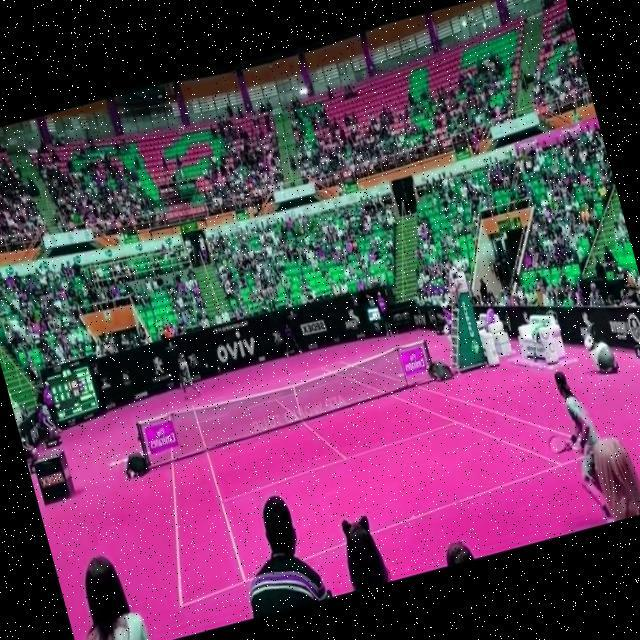court: (128, 300, 616, 608)
net: (132, 334, 440, 471)
player: (530, 364, 622, 532)
